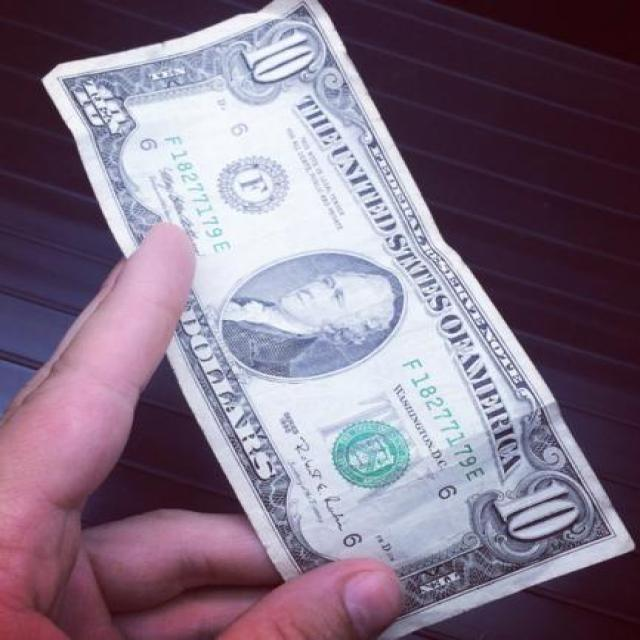10-Front: (38, 0, 640, 640)
